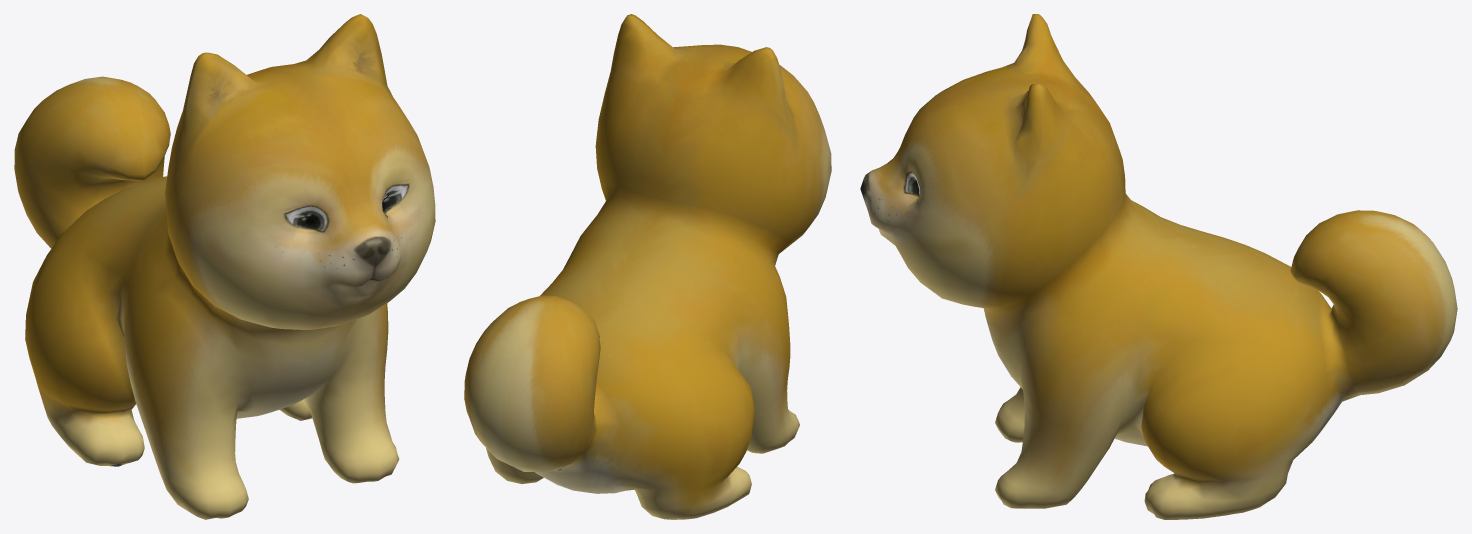
File: shiba.glb
The picture shows the model from 3 angles, left to right: view 1: azimuth 30°, elevation 25°; view 2: azimuth 150°, elevation 25°; view 3: azimuth 270°, elevation 25°; orthographic projection. The views are drawn at different scales.
Visible parts, largest first — view 1: Object_2; view 2: Object_2; view 3: Object_2.
Part boxes in pixels (x1,y1,x2,y2): Object_2: (14, 14, 435, 519); Object_2: (464, 14, 831, 519); Object_2: (860, 14, 1457, 519).
Bounding box in the file's own units: 0.9208 × 1.38 × 1.77.
1 material, 1 textured.
